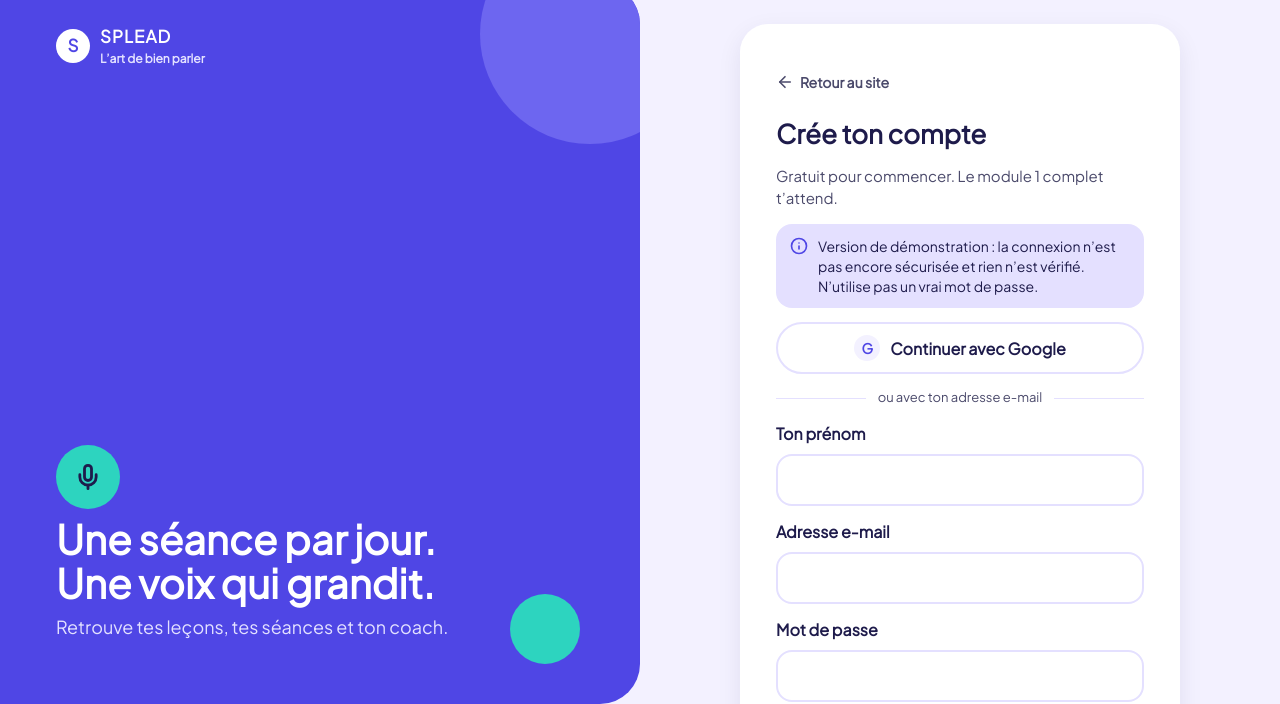
connexion de démonstration › l’inscription utilise le prénom saisi
This screenshot has width=1280, height=704.
Step 1. Type "Aïdara" into the field labelled "Ton prénom" → (960, 480), box [776,454,1144,506]
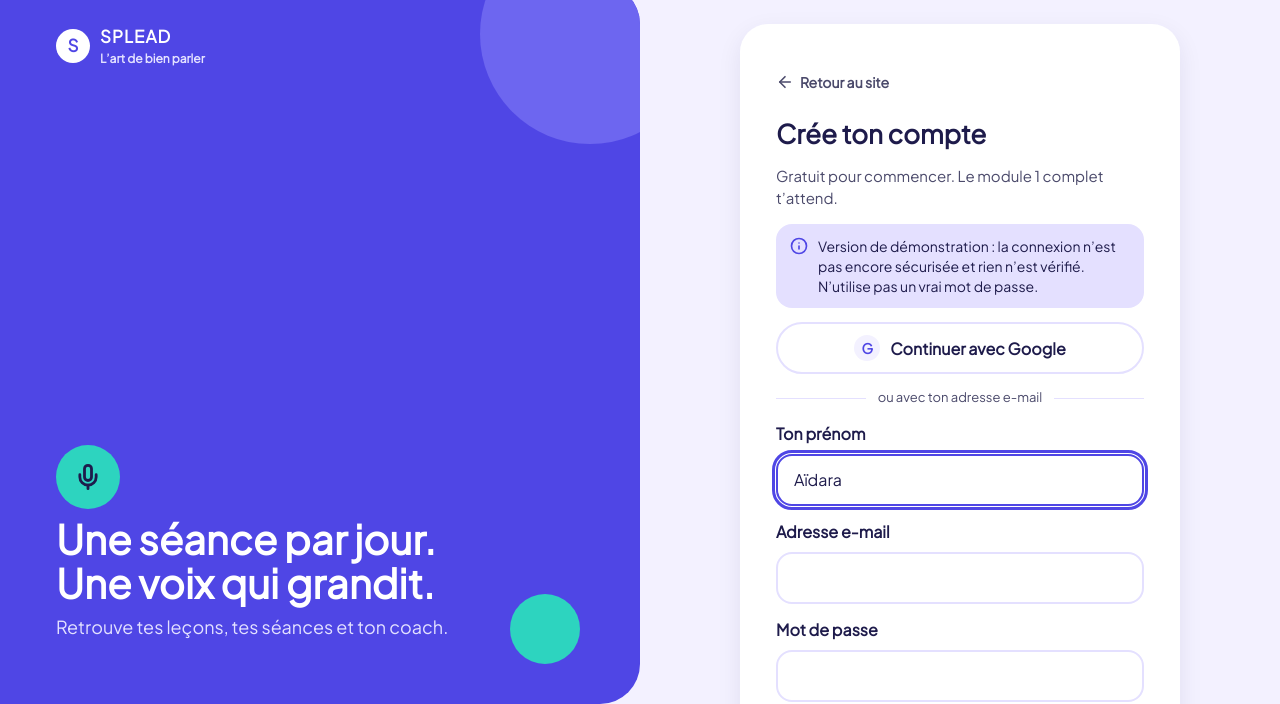
Step 2. Type "a@exemple.sn" into the field labelled "Adresse e-mail" → (960, 578), box [776,552,1144,604]
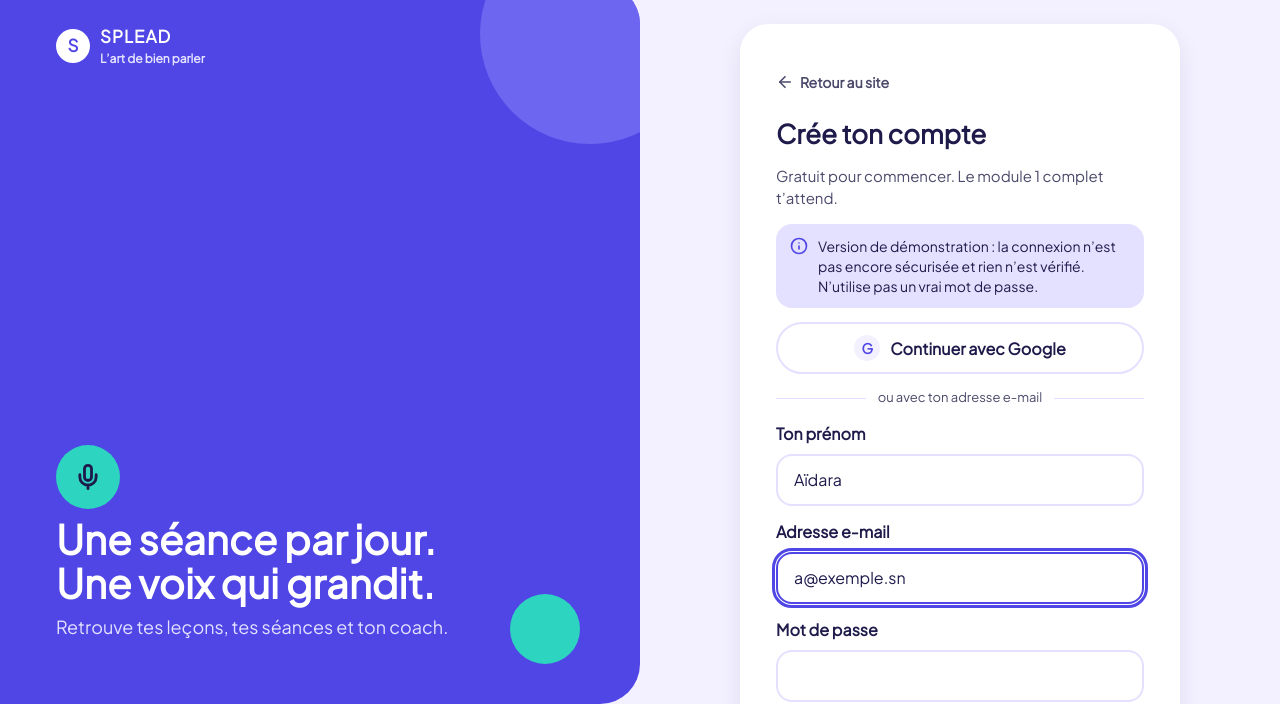
Step 3. Type "demo" into the password field labelled "Mot de passe" → (960, 676), box [776,650,1144,702]
(page scrolled)
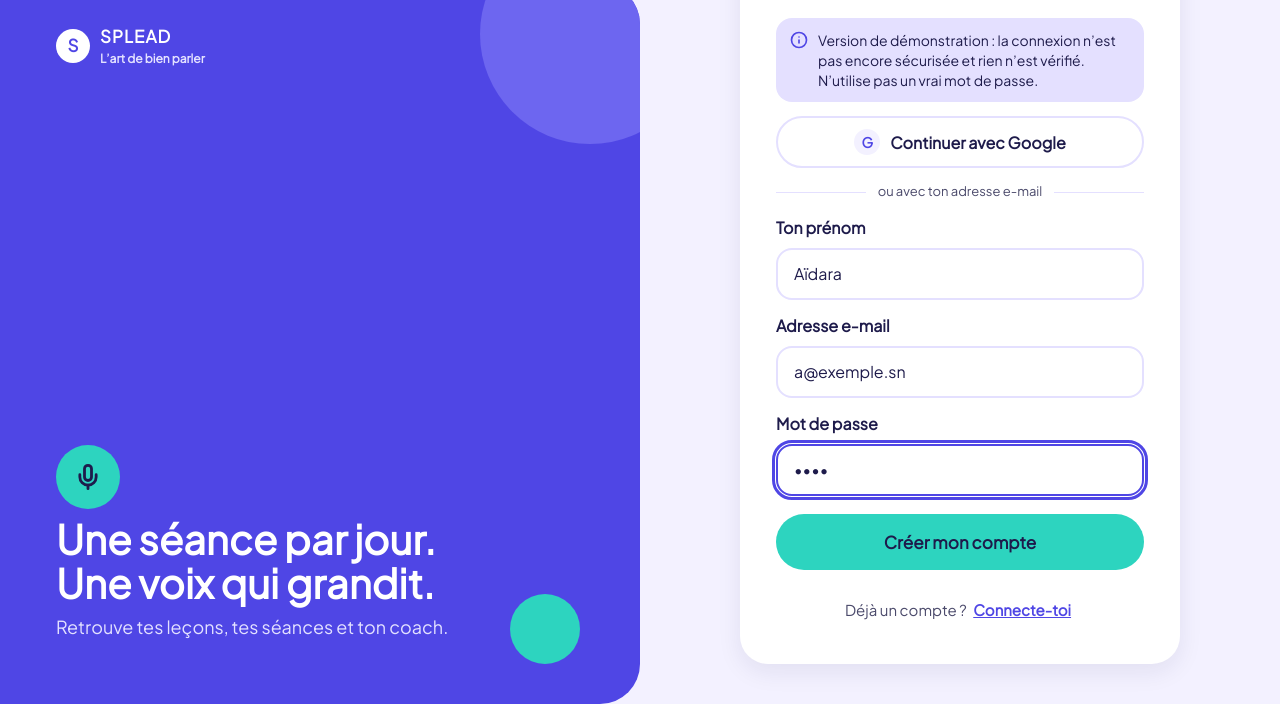
Step 4. Click the button "Créer mon compte" → (960, 542), box [776,514,1144,570]
(page scrolled)
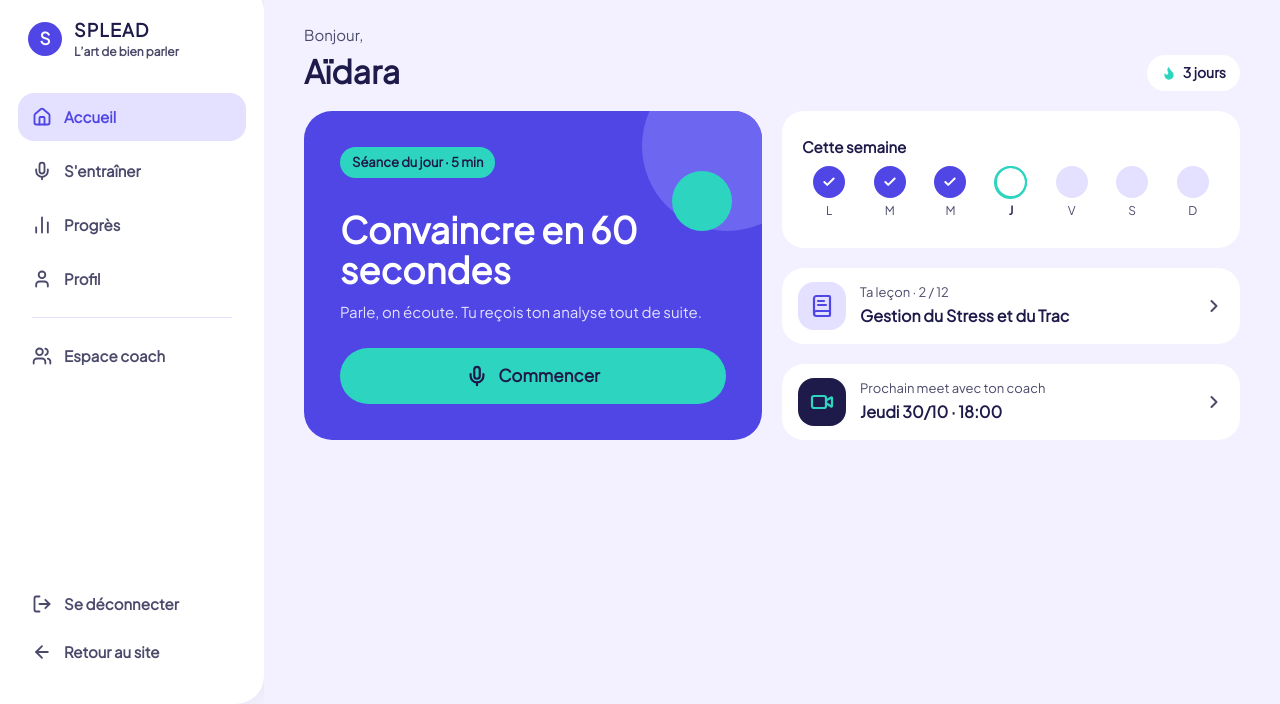
Result: the text "Aïdara" is shown at [304,50,400,90]
